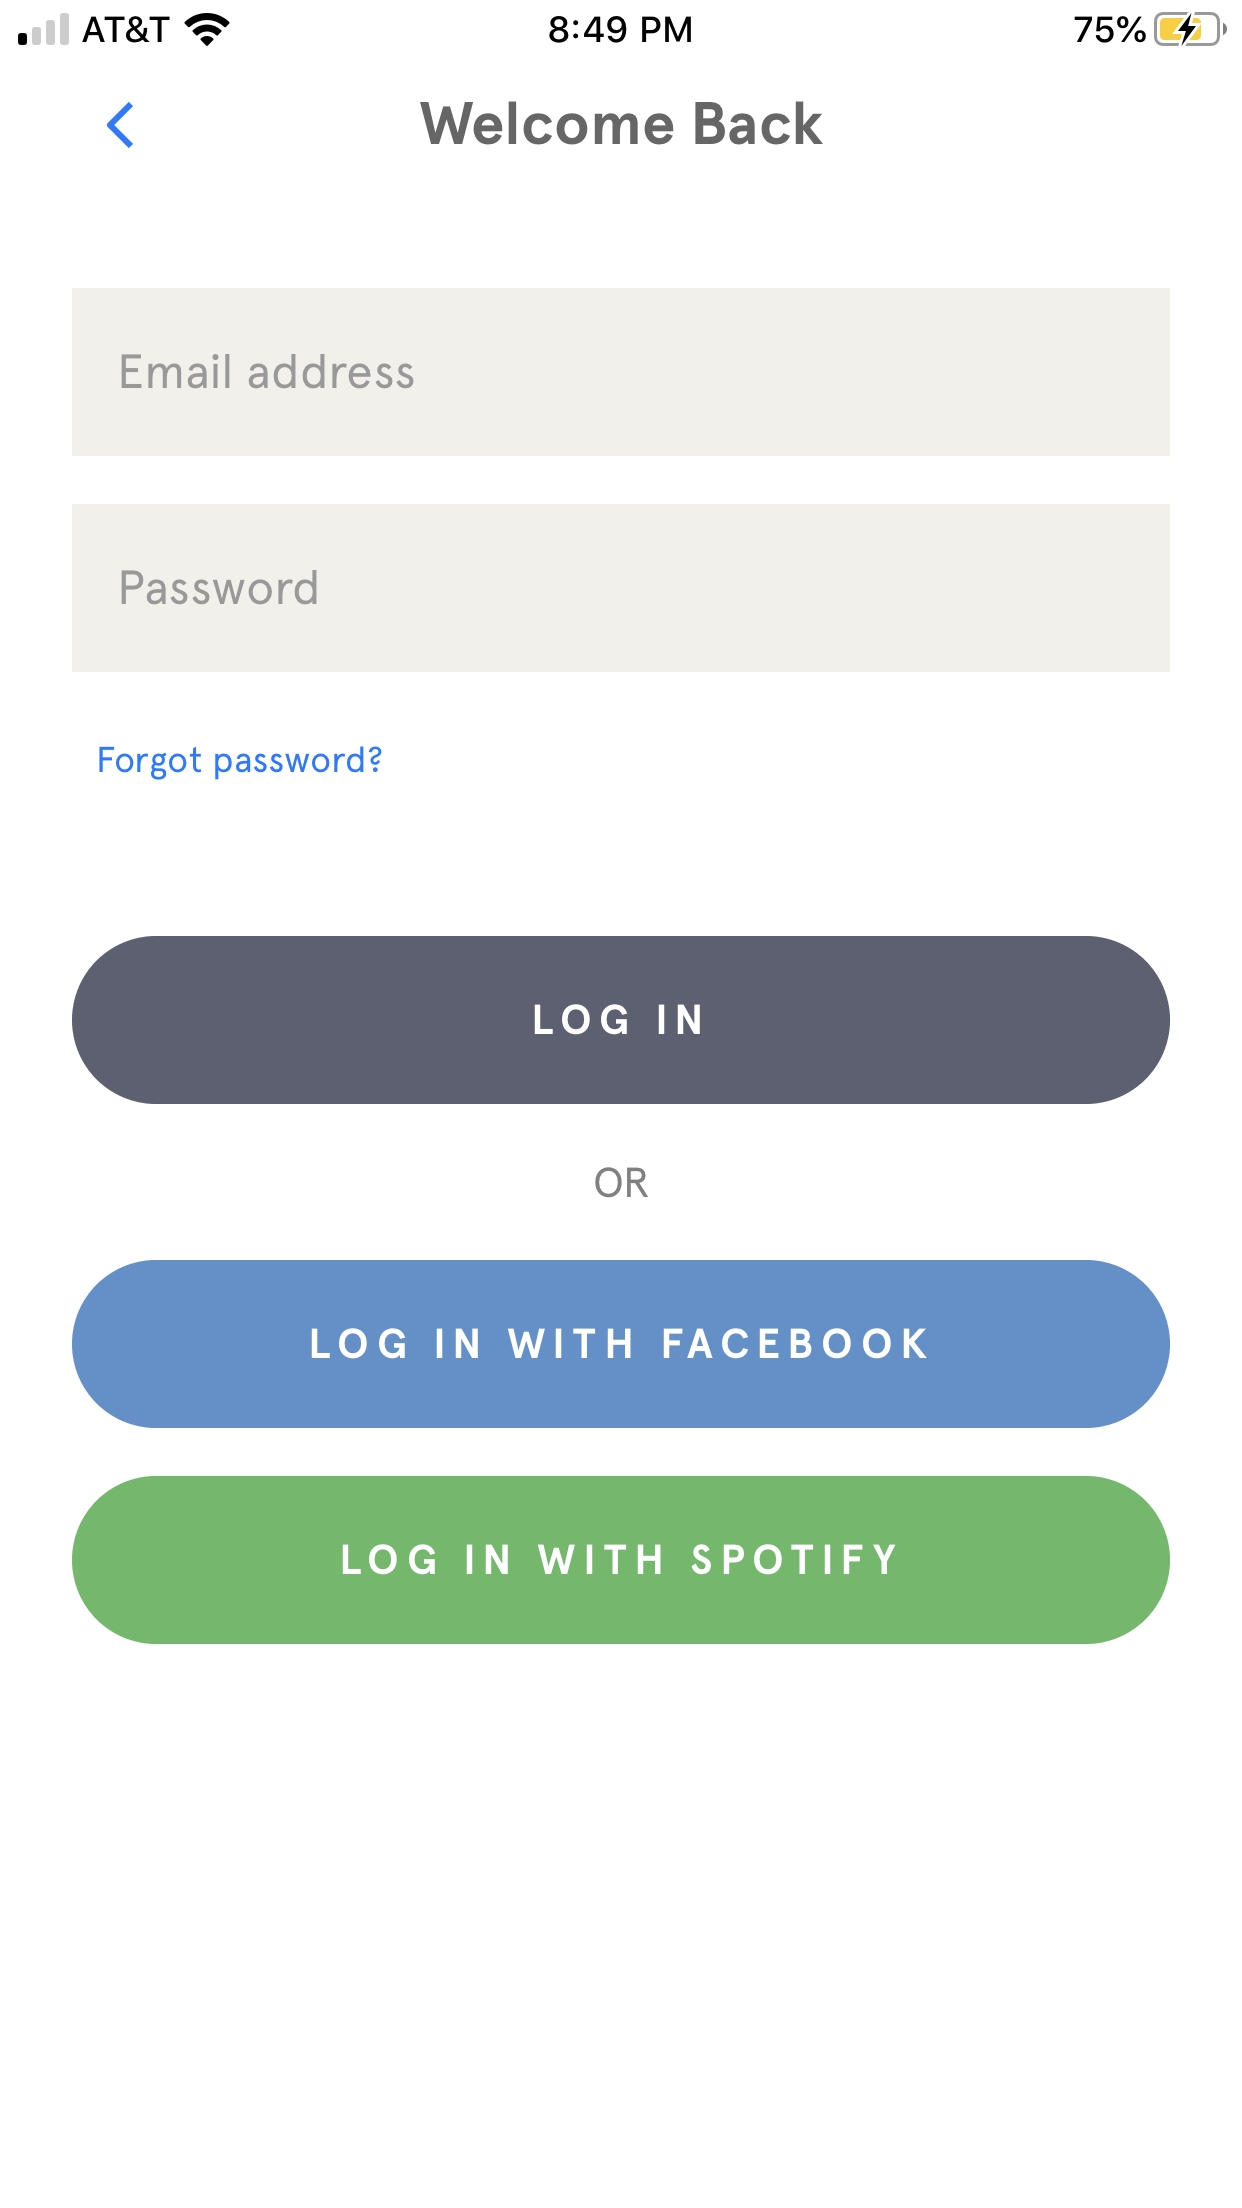EditText: (71, 503, 1171, 672), (71, 288, 1171, 456)
Icon: (108, 102, 133, 149)
Text: (420, 102, 823, 146), (121, 353, 414, 390), (99, 746, 382, 779), (121, 570, 318, 605), (594, 1168, 648, 1198)
TextButton: (71, 1260, 1171, 1429), (71, 936, 1171, 1104), (71, 1477, 1171, 1644)
UpperTaskBar: (2, 2, 1242, 47)
